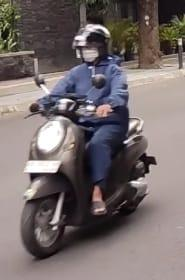helm: (71, 23, 114, 67)
riding: (19, 22, 159, 260)
